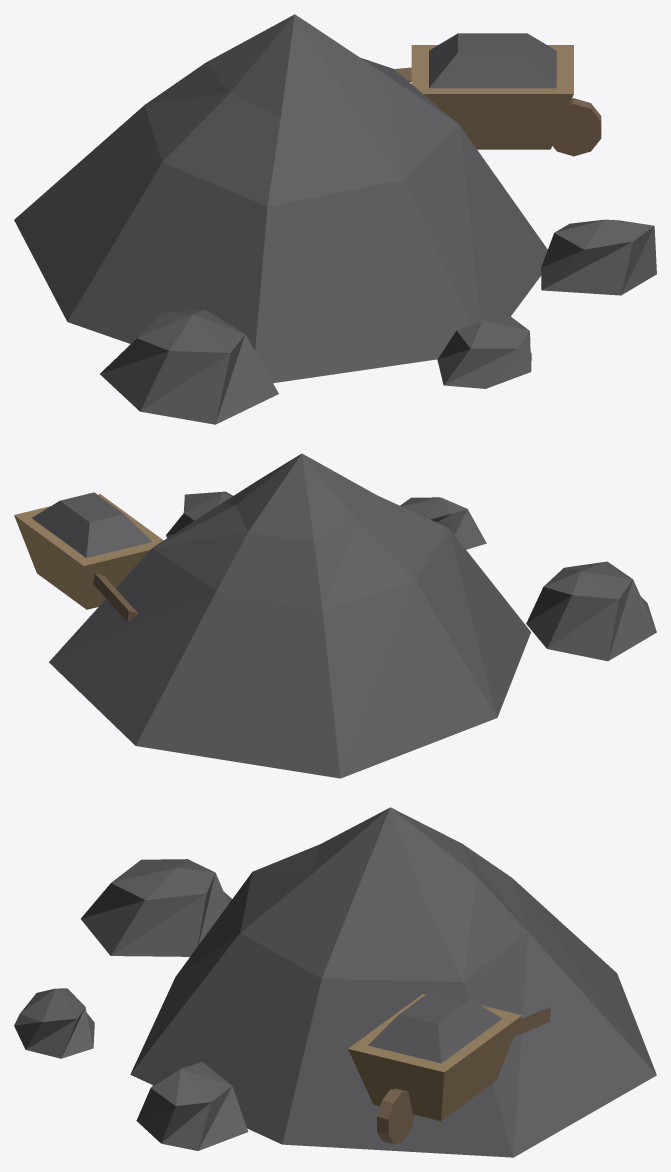
The model's file is coal.glb.
3 views of the same model, one above another, from view 1: azimuth 30°, elevation 25°; view 2: azimuth 150°, elevation 25°; view 3: azimuth 270°, elevation 25° (orthographic). The views are drawn at different scales.
Parts seen in each view (by area): view 1: LOD0; view 2: LOD0; view 3: LOD0.
Part boxes in pixels (x1,y1,x2,y2): LOD0: [14, 14, 656, 424]; LOD0: [14, 453, 656, 778]; LOD0: [14, 807, 656, 1157].
Size of what is drawn, in the model's own units: 0.706 by 0.288 by 0.6926.
